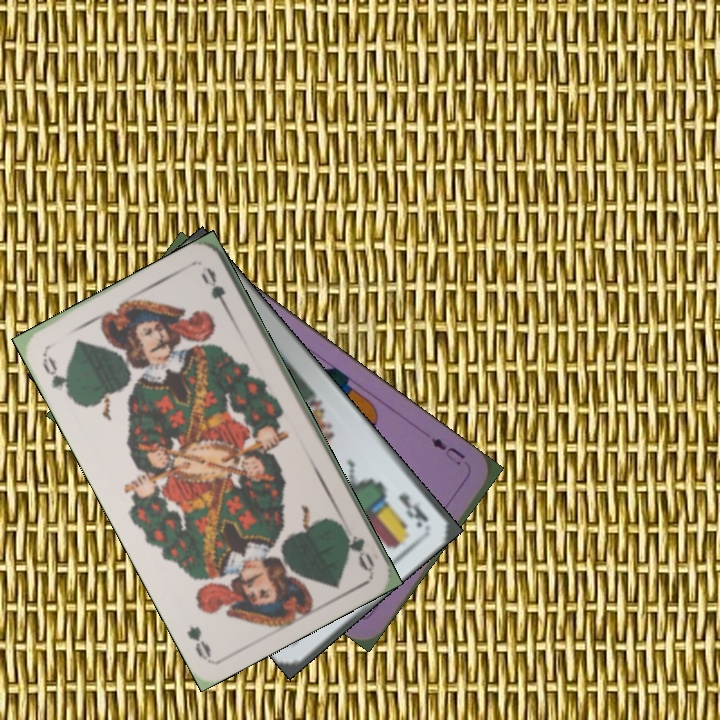EK: (394, 489, 432, 530)
EU: (427, 433, 468, 468)
GO: (334, 520, 377, 573), (38, 349, 75, 402)
